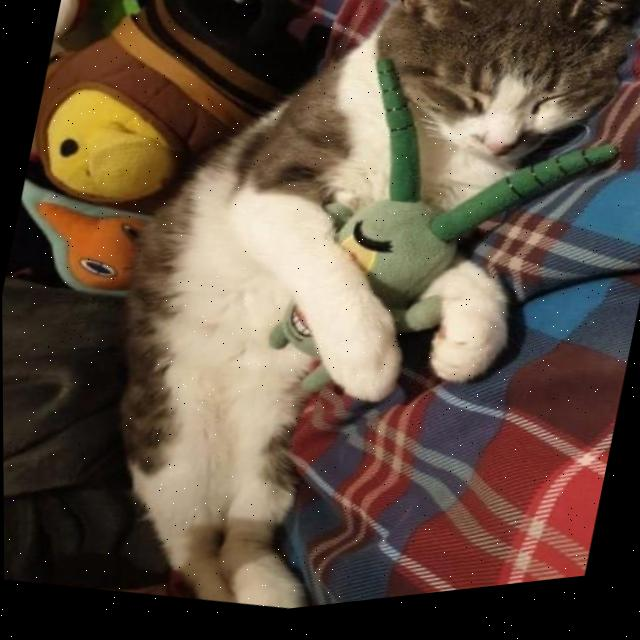Cats: (25, 0, 640, 638)
